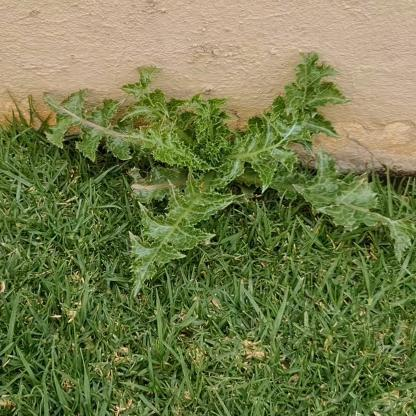Weeds: (42, 51, 413, 293)
